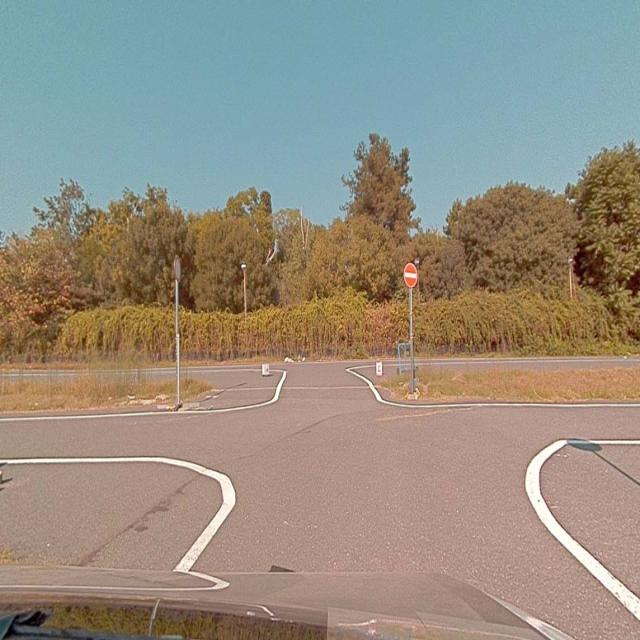girisyok: (403, 262, 418, 287)
